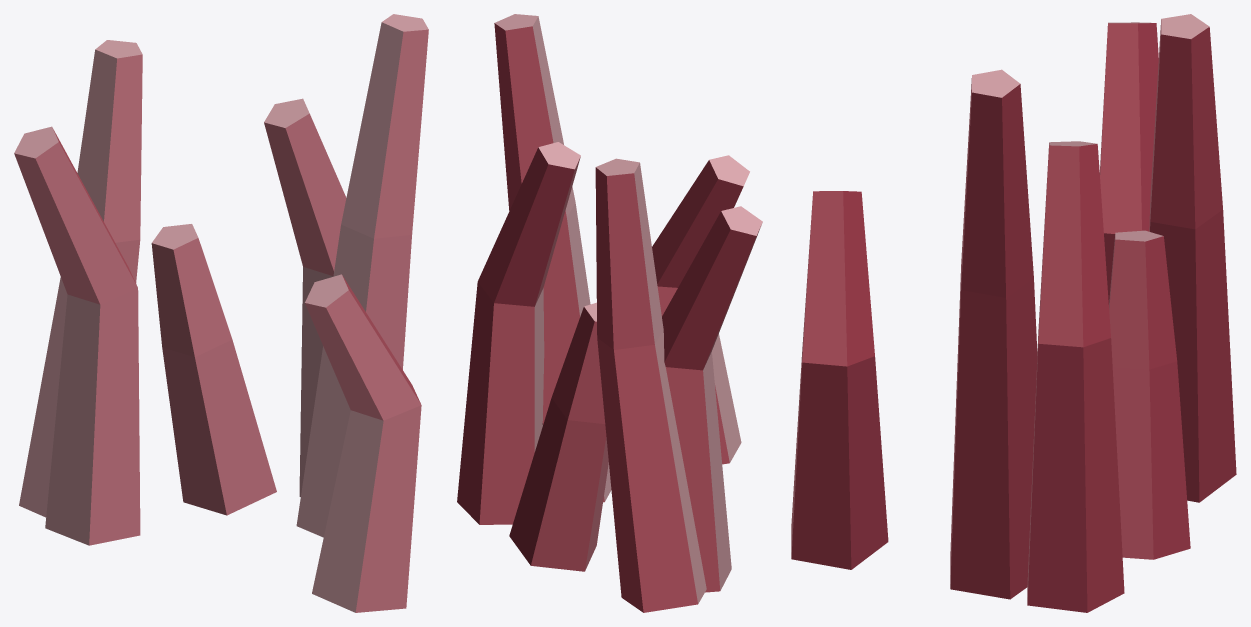
Rendered from coral.glb.
The picture shows the model from 3 angles, left to right: view 1: azimuth 30°, elevation 25°; view 2: azimuth 150°, elevation 25°; view 3: azimuth 270°, elevation 25°; orthographic projection. The views are drawn at different scales.
Parts seen in each view (by area): view 1: coral; view 2: coral; view 3: coral.
Boxes of the visible parts, x1,y1,x2,y2 form: coral: (14, 14, 428, 612); coral: (457, 14, 762, 612); coral: (791, 14, 1236, 612).
Size of the model in its own units: 0.3161 by 0.4392 by 0.3319.
